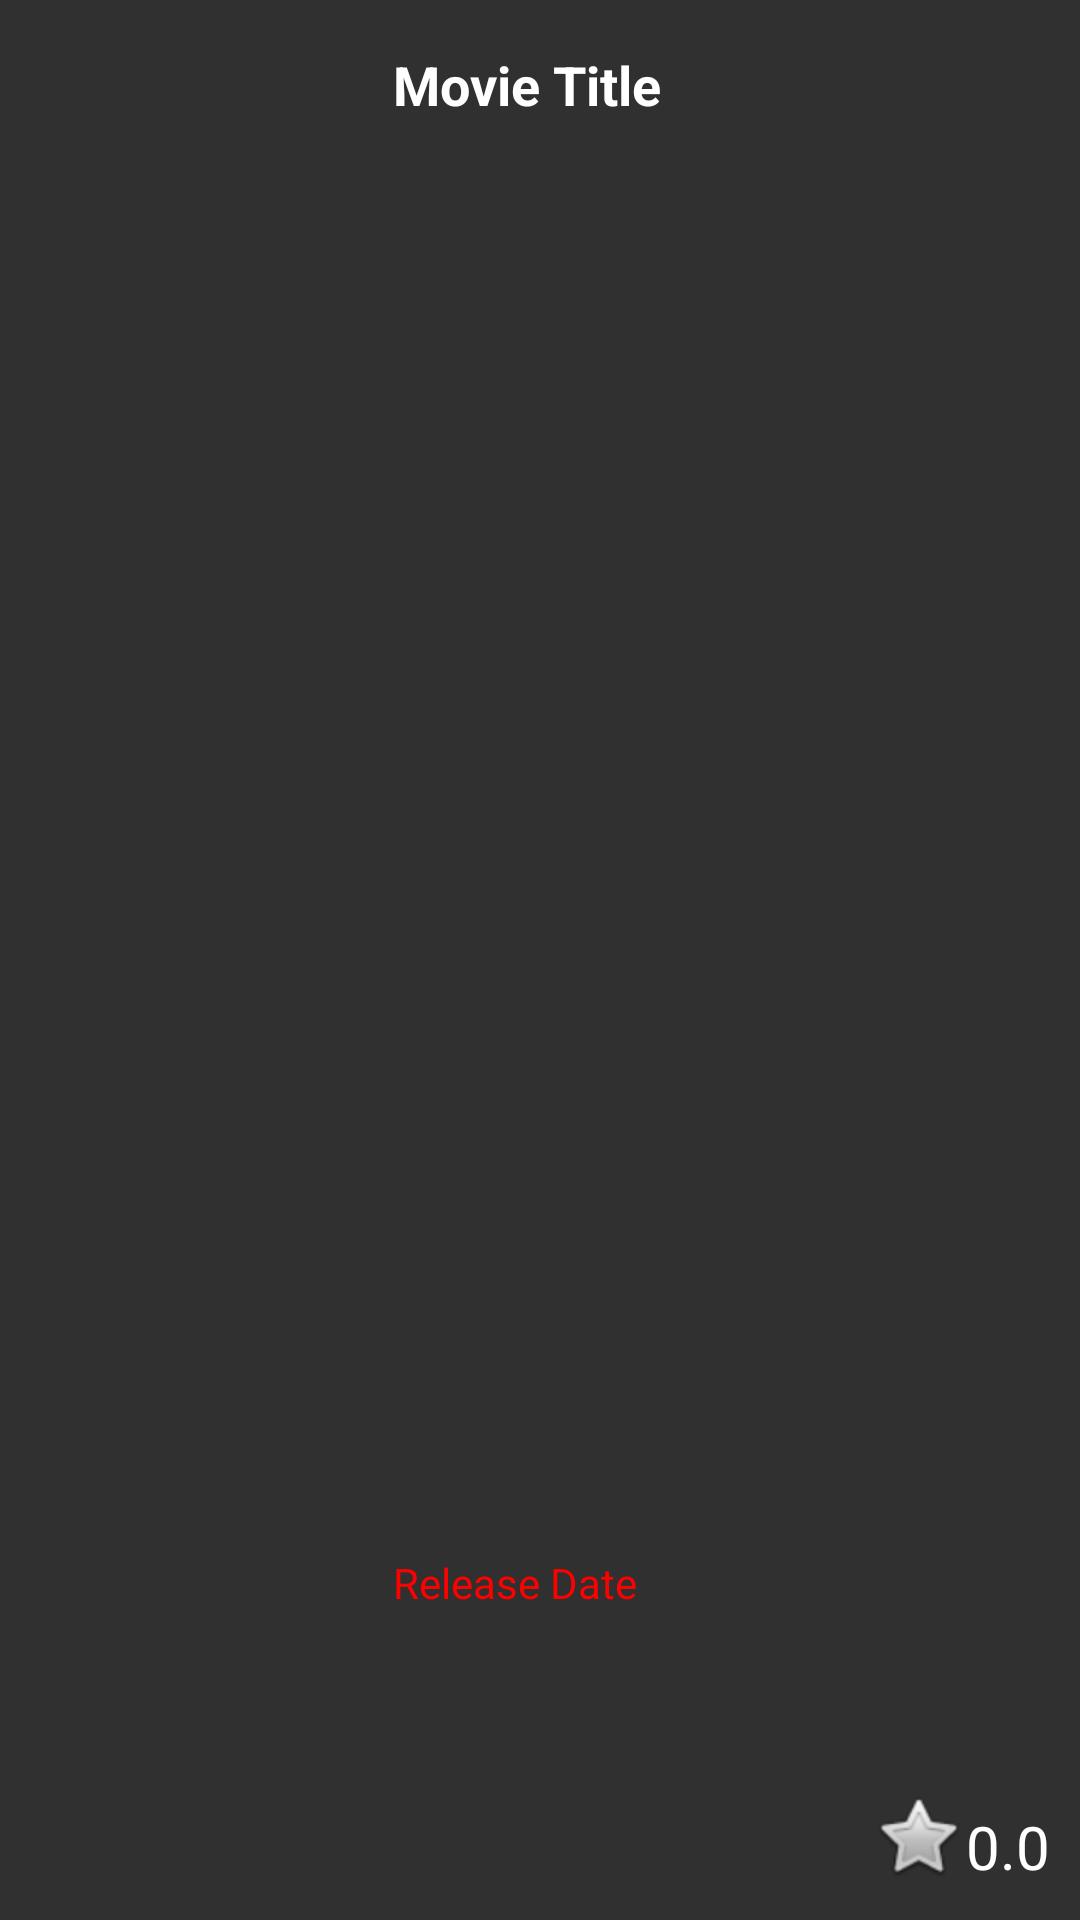

Screen size 1080x1920. Icon name, then its center in pixels as (x=x, y=y):
star off: (x=919, y=1835)
